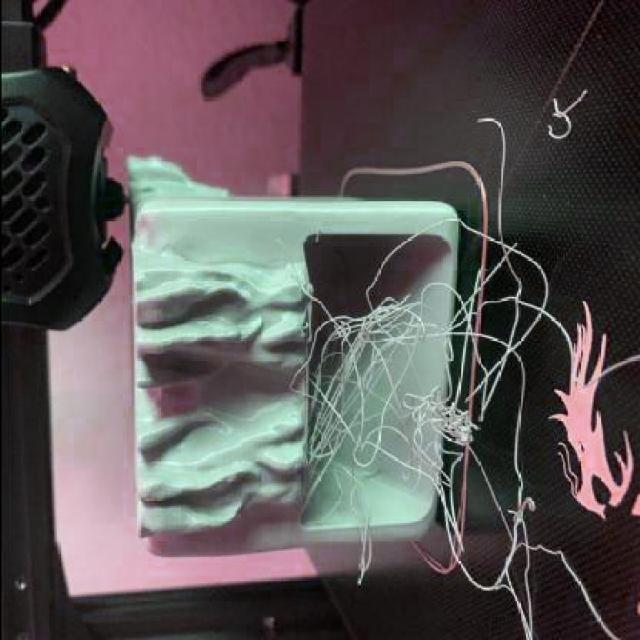spaghetti: (285, 213, 554, 589)
